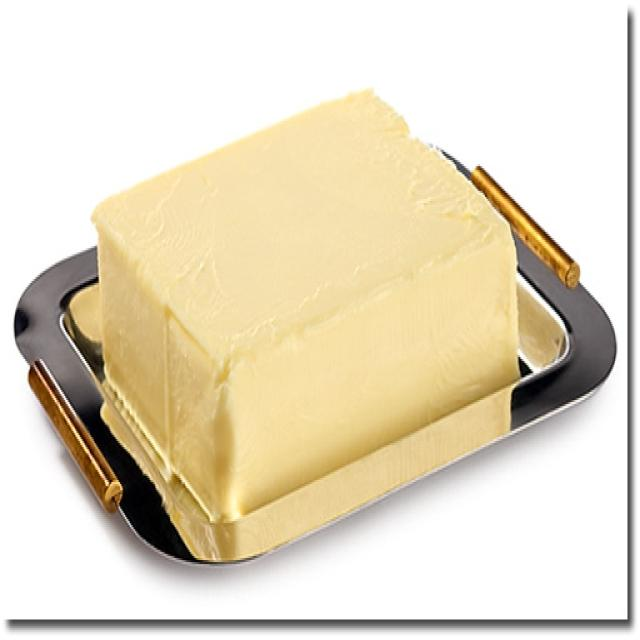Butter: (101, 90, 521, 472)
